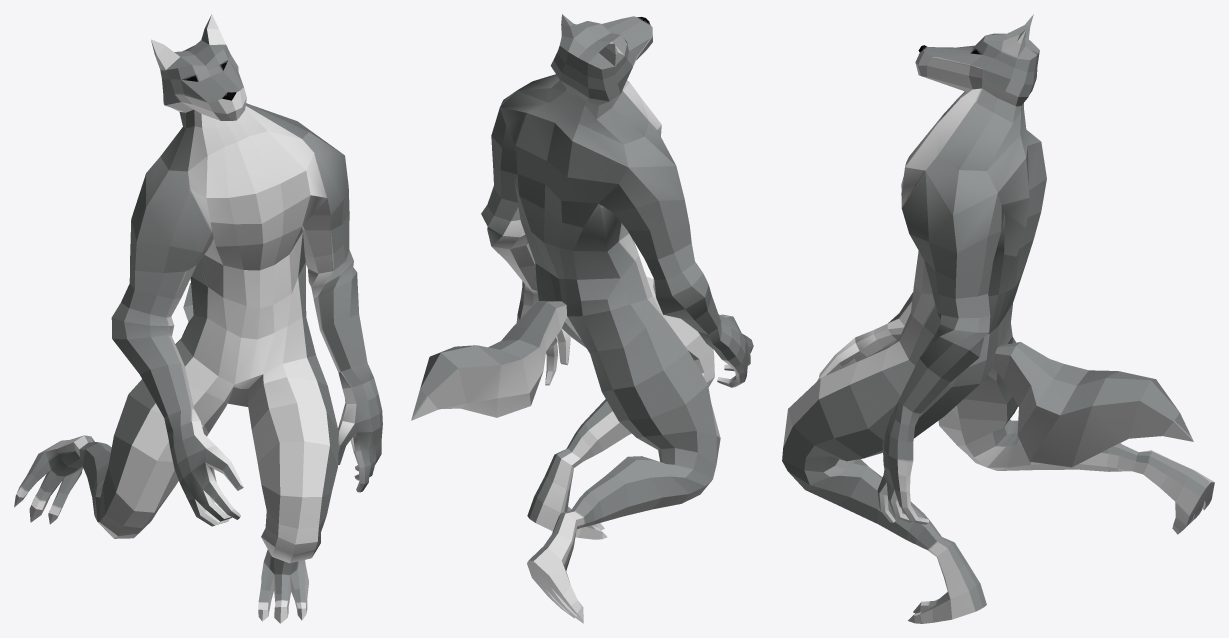
The model's file is WolfDead(21).obj.
The picture shows the model from 3 angles, left to right: view 1: azimuth 30°, elevation 25°; view 2: azimuth 150°, elevation 25°; view 3: azimuth 270°, elevation 25°; orthographic projection. The views are drawn at different scales.
Parts seen in each view (by area): view 1: Box001; view 2: Box001; view 3: Box001.
Part boxes in pixels (box(x1,y1,x2,y2)): Box001: box(14, 14, 382, 623); Box001: box(411, 14, 753, 623); Box001: box(782, 14, 1214, 623).
Bounding box in the file's own units: 60.63 × 137 × 92.67.
